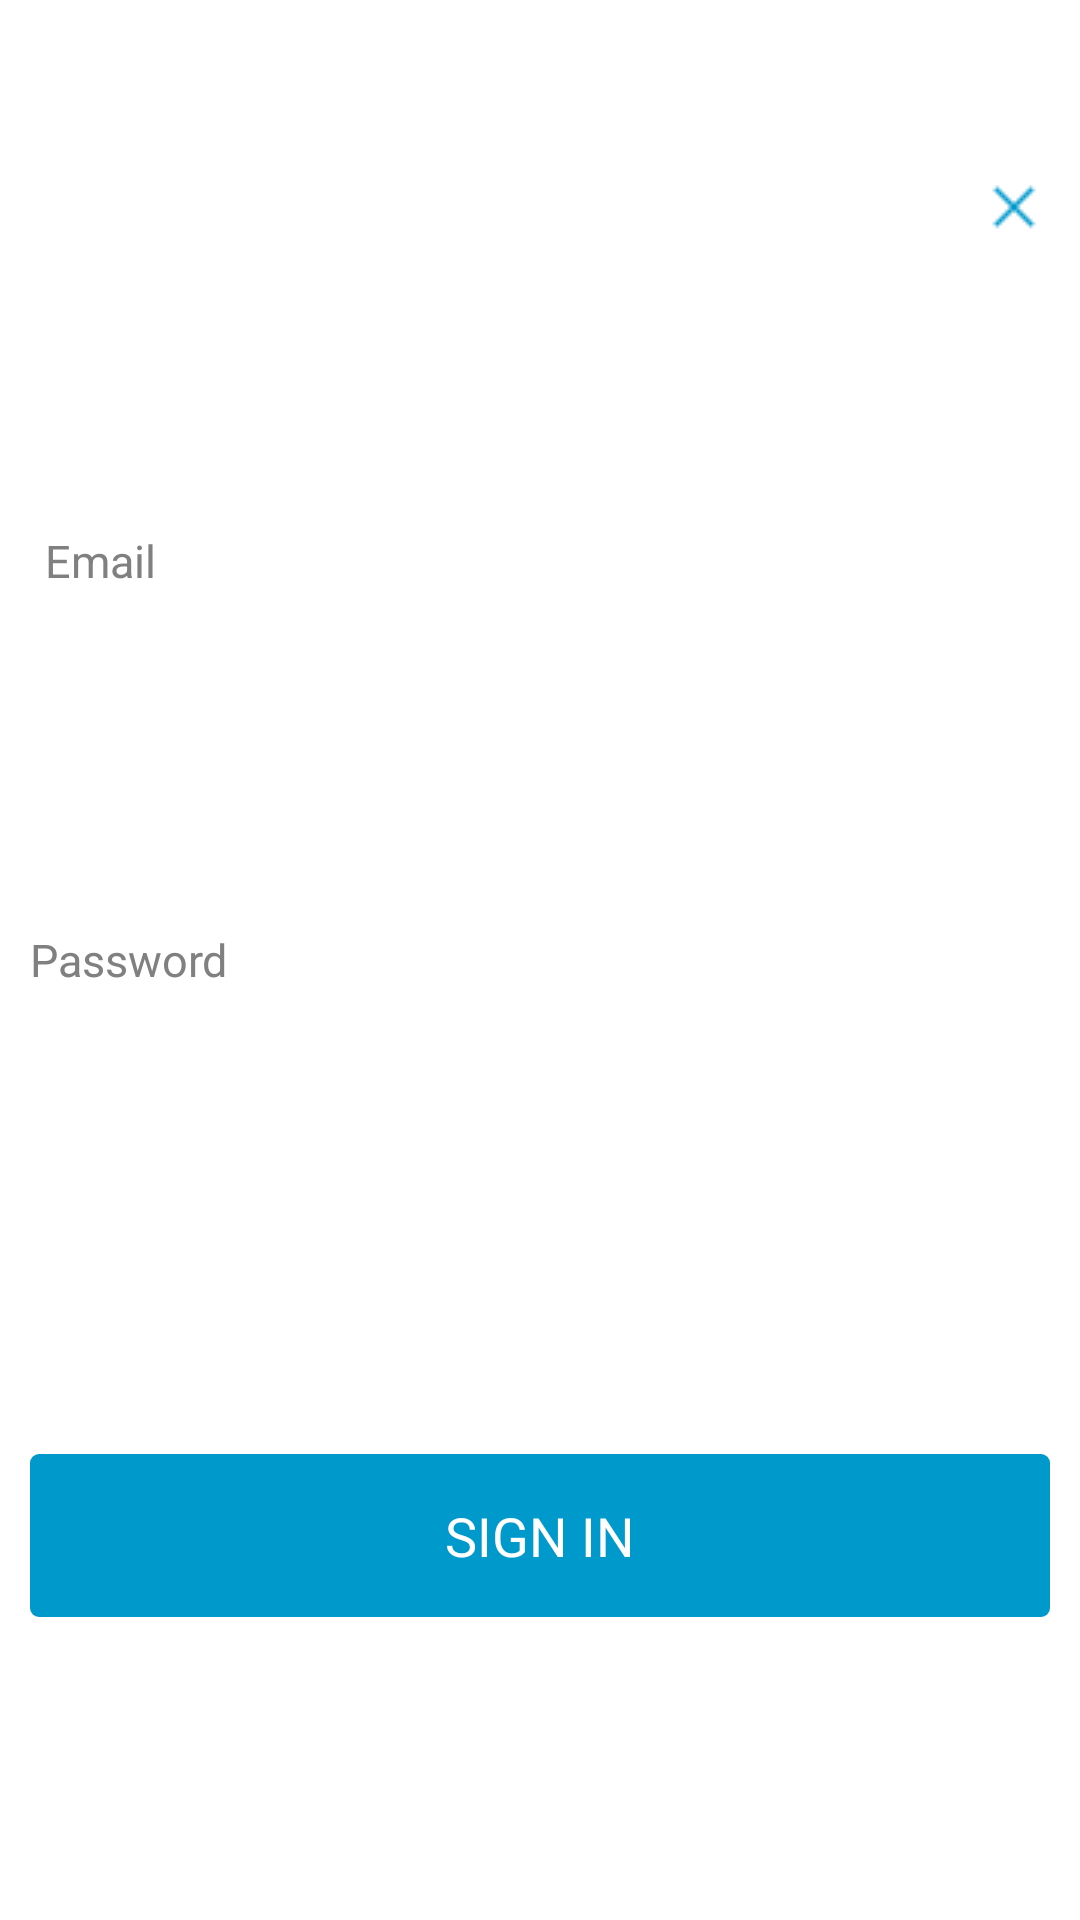

Where to tap for icons on this 1080 x 1920 app screen, as point (x, y):
close: point (1014, 207)
